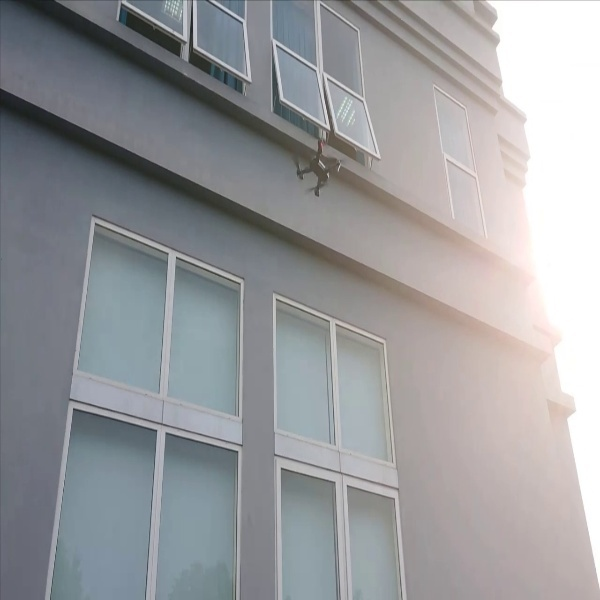drone: (282, 131, 359, 203)
